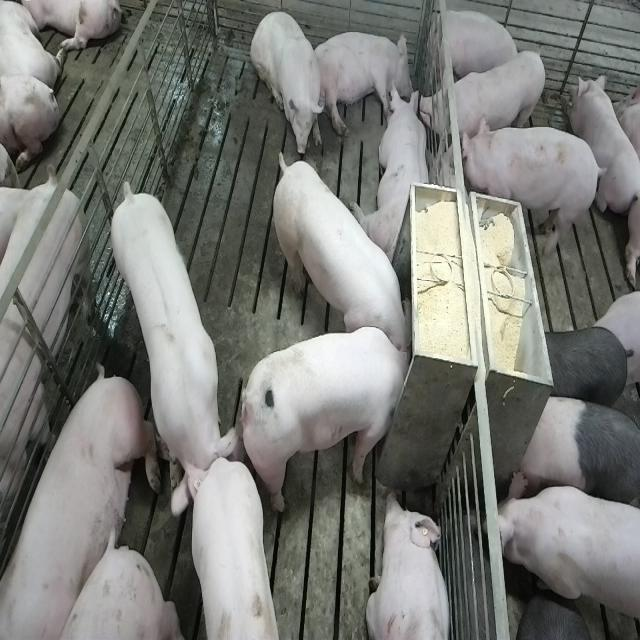Feeding: (245, 325, 420, 514), (268, 143, 410, 354)
Lateral_lying: (311, 29, 414, 139)
Sitting: (250, 7, 324, 158)
Standing: (110, 178, 242, 518), (0, 171, 99, 621), (498, 481, 638, 640), (461, 120, 606, 260), (168, 457, 278, 640), (515, 392, 638, 513), (534, 324, 634, 414)
Sternal_lying: (357, 85, 432, 267), (366, 489, 453, 640), (572, 72, 638, 220), (428, 7, 524, 92)
